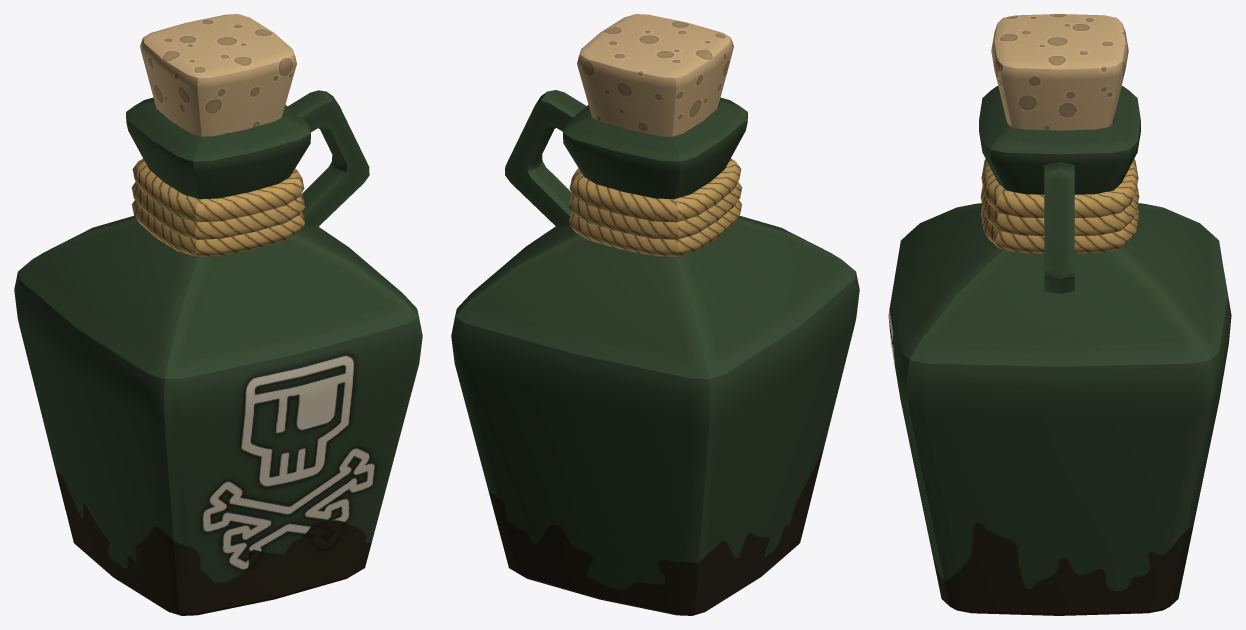
Rendered from rum jug.glb.
The picture shows the model from 3 angles, left to right: view 1: azimuth 30°, elevation 25°; view 2: azimuth 150°, elevation 25°; view 3: azimuth 270°, elevation 25°; orthographic projection. The views are drawn at different scales.
Visible parts, largest first — view 1: Quest_Pirate1_RumJug; view 2: Quest_Pirate1_RumJug; view 3: Quest_Pirate1_RumJug.
Boxes of the visible parts, <box> form: Quest_Pirate1_RumJug: <box>14,14,422,615</box>; Quest_Pirate1_RumJug: <box>451,14,859,615</box>; Quest_Pirate1_RumJug: <box>888,14,1231,615</box>.
Bounding box in the file's own units: 0.3538 × 0.5986 × 0.3518.
Materials: 1 (1 with a texture image).
